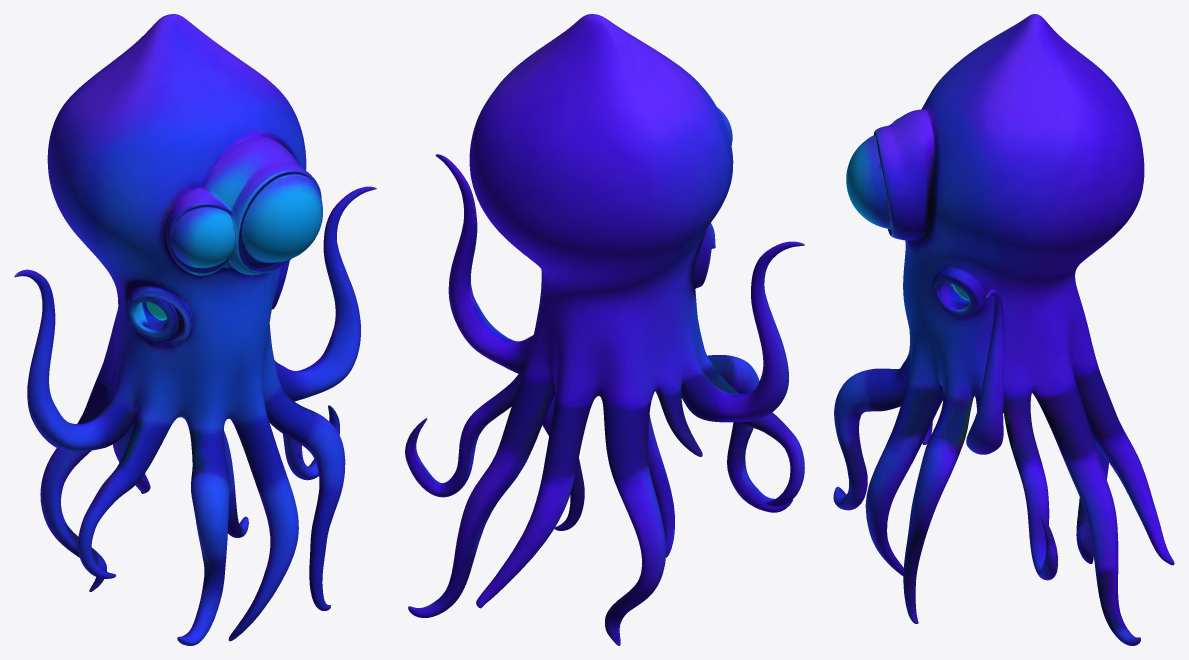
The model's file is squid.glb.
3 renders of one model, left to right at view 1: azimuth 30°, elevation 25°; view 2: azimuth 150°, elevation 25°; view 3: azimuth 270°, elevation 25°, orthographic. The views are drawn at different scales.
Size of the model in its own units: 1.23 by 1.9 by 1.02.
1 material, 1 textured.
